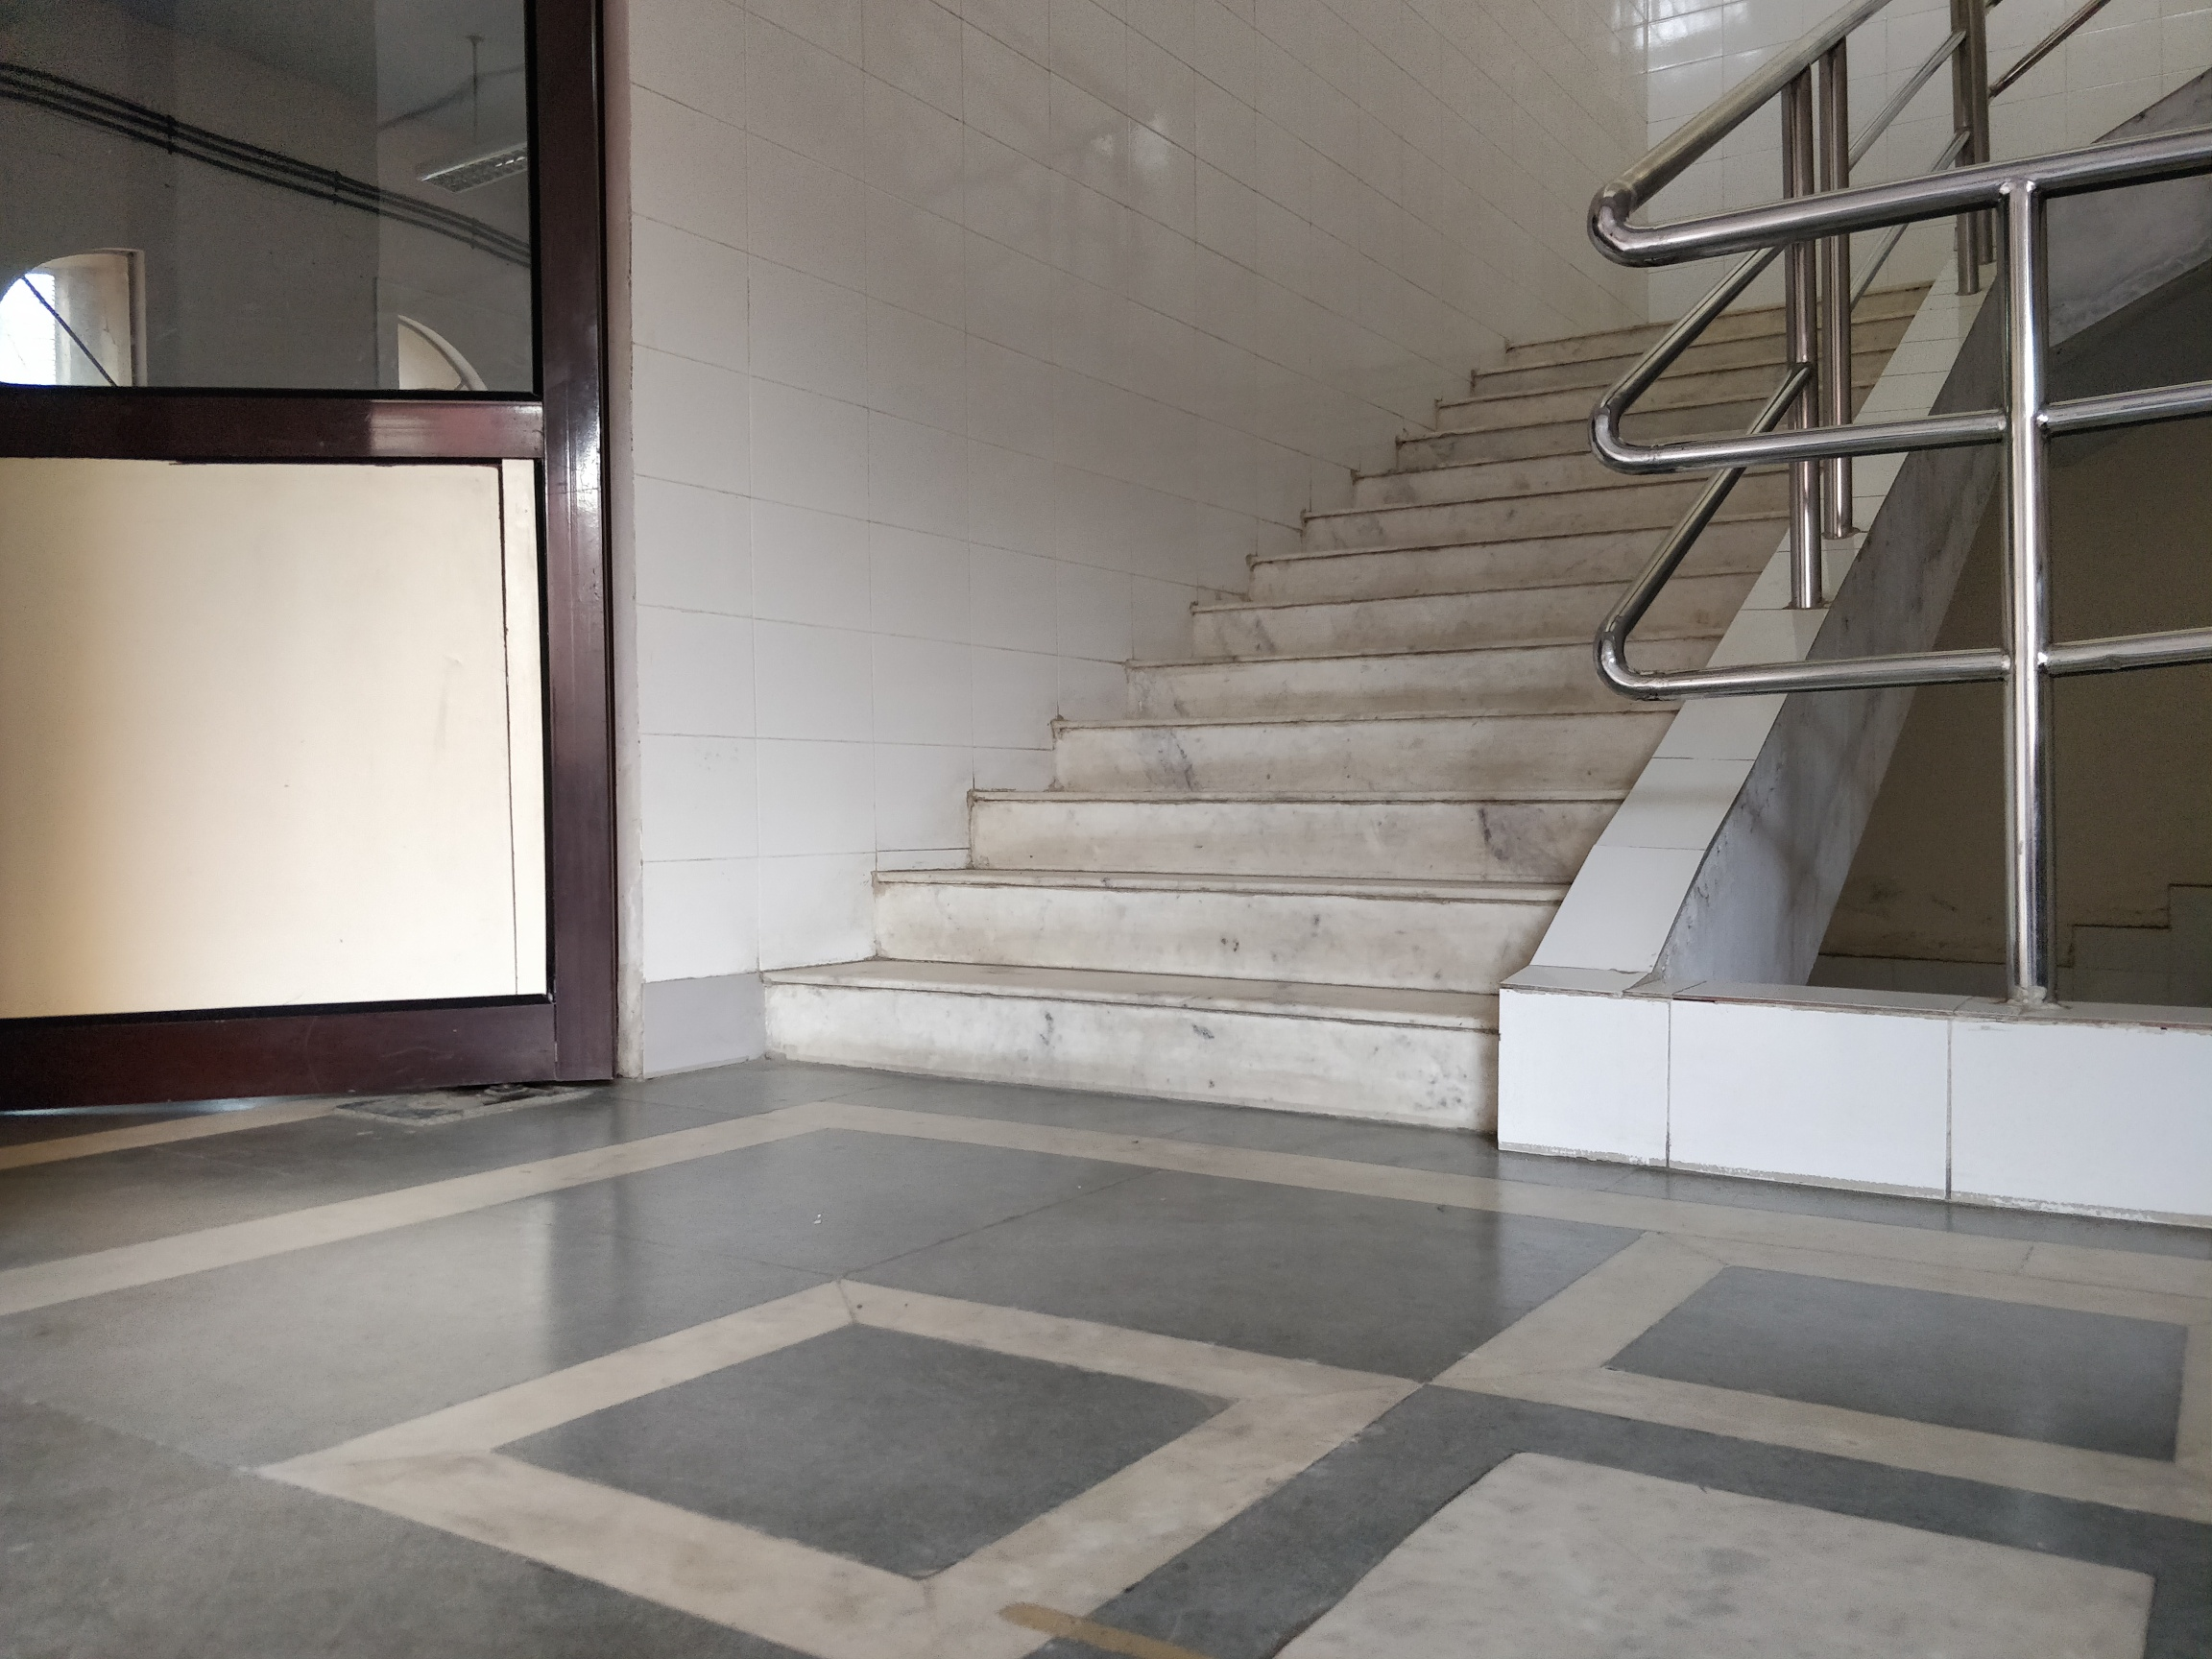stairs_up: (702, 272, 1935, 1143)
